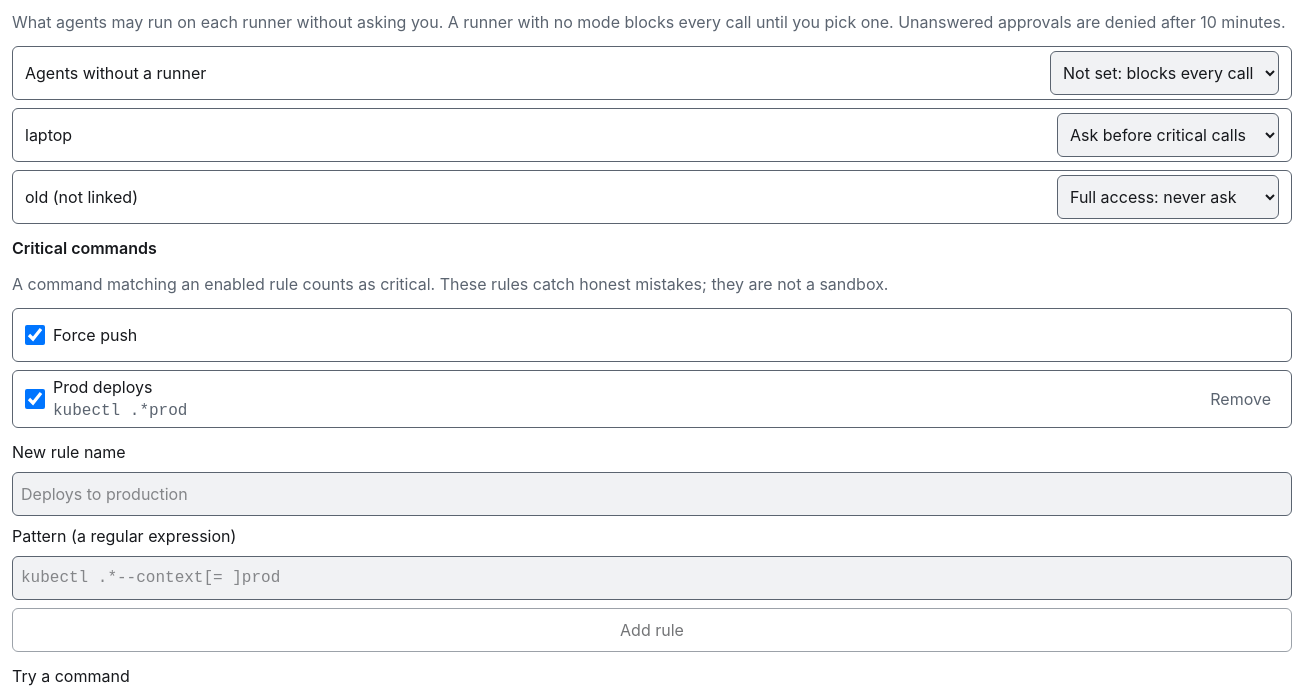
AccessModes › reverts when serve is unreachable
Select "Off: block every tool call" in the dropdown named "laptop access mode": (1168, 135) [1057,113,1279,157]
(page scrolled)
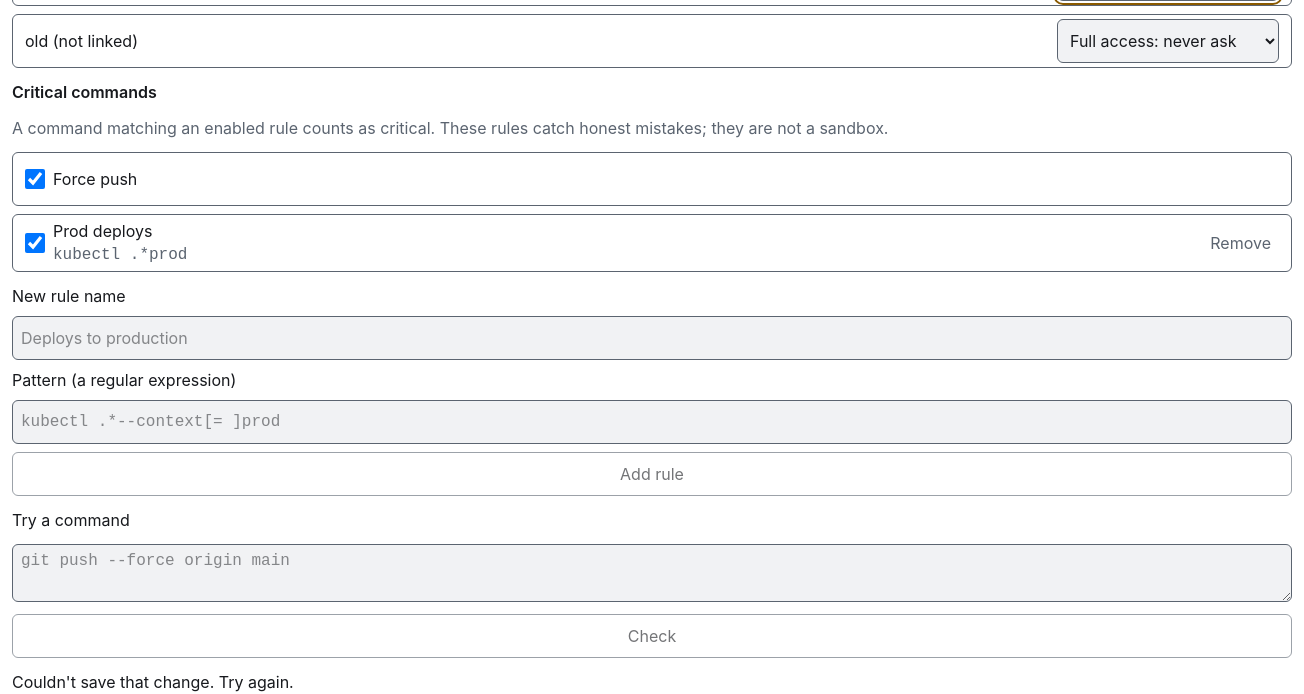
Expected: the message reads "Couldn't save that change. Try again.", [12,672,294,692]
